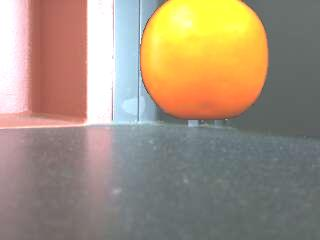Orange: (138, 0, 268, 120)
